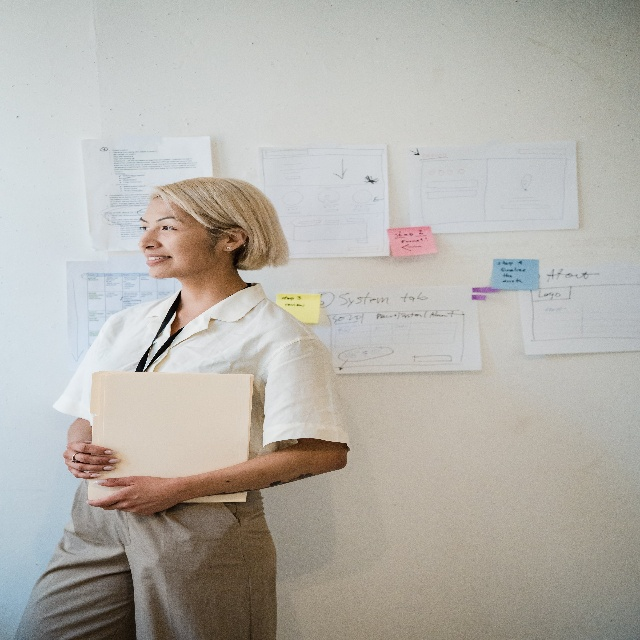Sin_guantes: (86, 468, 181, 509), (64, 442, 124, 480)
